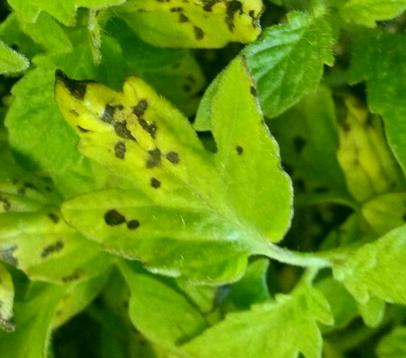Tomato leaf: (168, 287, 354, 358)
Tomato leaf bacterial spot: (51, 60, 313, 288), (92, 0, 283, 56)
